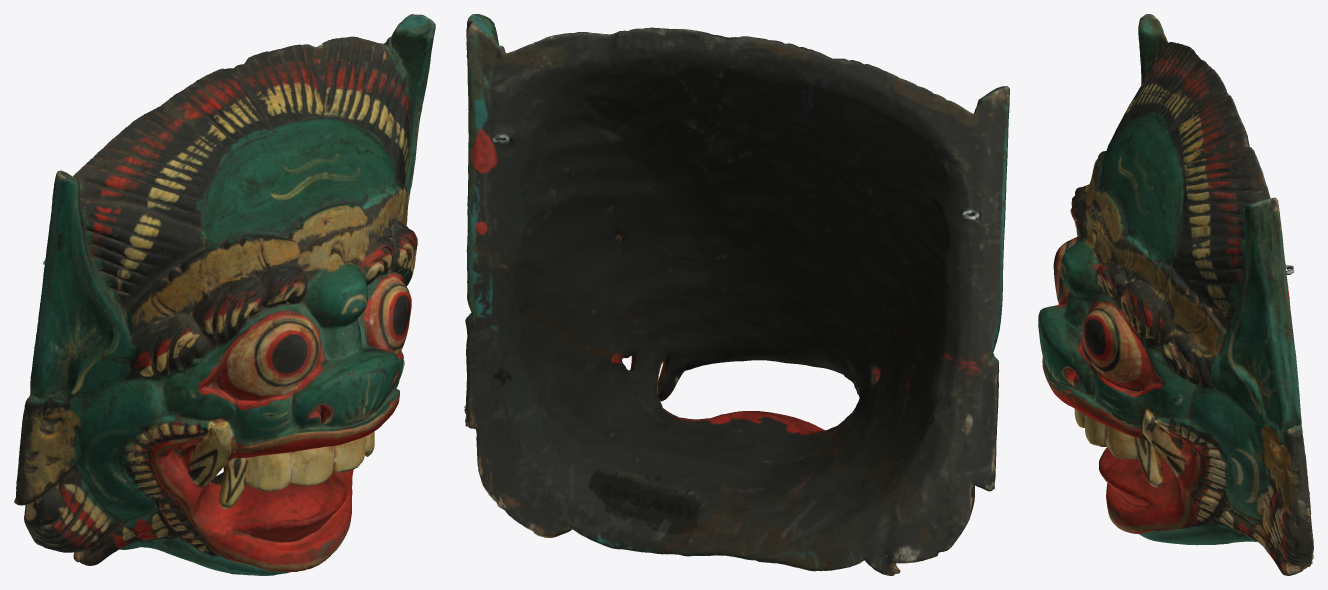
The model's file is mask-gltf-2.0-binary-valid.gltf.
3 views of the same model, side by side, from view 1: azimuth 30°, elevation 25°; view 2: azimuth 150°, elevation 25°; view 3: azimuth 270°, elevation 25° (orthographic). The views are drawn at different scales.
Parts seen in each view (by area): view 1: Mesh_0; view 2: Mesh_0; view 3: Mesh_0.
Part boxes in pixels (box(x1,y1,x2,y2)): Mesh_0: box(14, 14, 435, 575); Mesh_0: box(464, 14, 1009, 575); Mesh_0: box(1038, 14, 1313, 575).
Size of the model in its own units: 0.2213 by 0.225 by 0.1274.
1 material, 1 textured.
